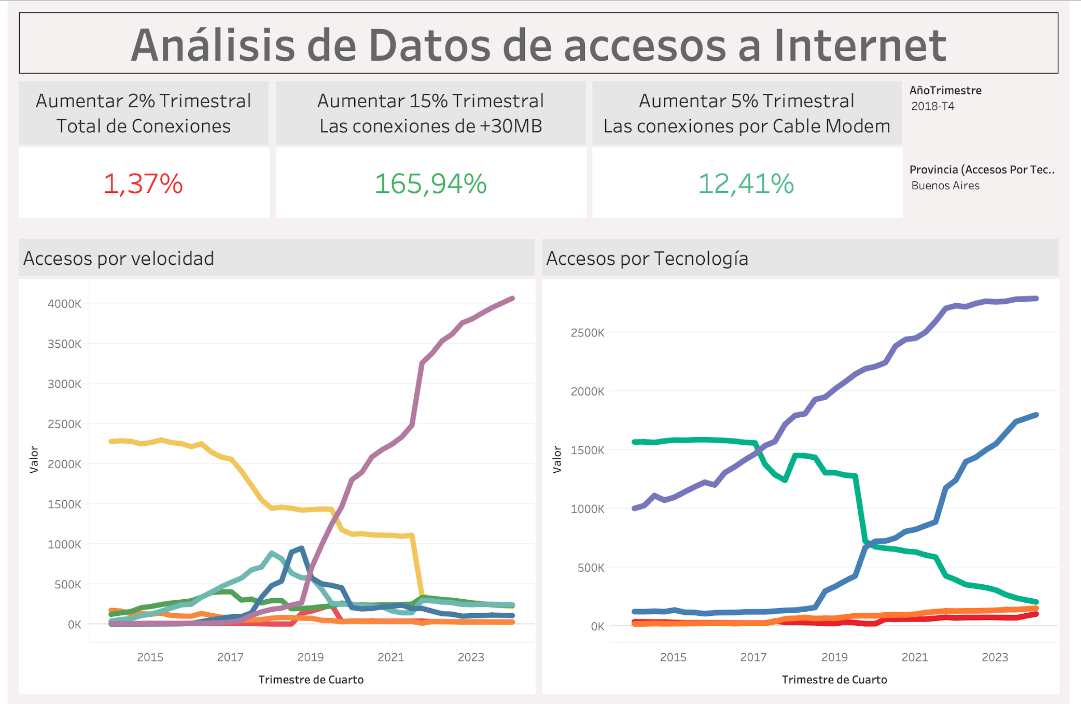

The page's visual inventory and layout, read from the dashboard file:
{"tool":"tableau","page":{"name":"Evolucion","canvas":[1000,1000],"units":"permille","ordinal":0},"visuals":[{"type":"text","box":[6.4,10.6,987.1,98]},{"type":"worksheet","title":"KPIAum2","mark":"Automatic","box":[6.4,108.6,221.7,223.7]},{"type":"worksheet","title":"KPI30MB","mark":"Automatic","box":[228.1,108.6,315.2,223.7]},{"type":"worksheet","title":"KPICM","mark":"Automatic","box":[543.4,108.6,315.3,223.7]},{"type":"filter","title":"KPIAum2","param":"[federated.19r4h710yd1vlb11macoq06q9sdq].[none:Calculation_6931602843513204736:n","box":[858.6,108.6,134.9,75.5]},{"type":"filter","title":"KPIAum2","param":"[federated.19r4h710yd1vlb11macoq06q9sdq].[none:Provincia (Accesos Por Tecnología","box":[858.6,184.1,134.9,74.2]},{"type":"dashboard-object","box":[858.6,258.3,134.9,74.2]},{"type":"worksheet","title":"xVelocidad","mark":"Automatic","cols":["Calculation_142637492410564608"],"box":[6.4,332.3,493.5,657.1]},{"type":"worksheet","title":"xTecnologia","mark":"Automatic","cols":["Calculation_142637492410564608"],"box":[499.9,332.3,493.7,657.1]}]}

Visuals, with their boxes on the dashboard's canvas, which has no fixed pixel size, in thousandths of its width and height (x1, y1, x2, y2). These are canvas units, not pixel positions in the 1081x704 screenshot, which may show the page scaled, cropped or inside an application window:
text: [6, 11, 994, 109]
"KPIAum2" worksheet: [6, 109, 228, 332]
"KPI30MB" worksheet: [228, 109, 543, 332]
"KPICM" worksheet: [543, 109, 859, 332]
"KPIAum2" filter: [859, 109, 994, 184]
"KPIAum2" filter: [859, 184, 994, 258]
dashboard-object: [859, 258, 994, 332]
"xVelocidad" worksheet: [6, 332, 500, 989]
"xTecnologia" worksheet: [500, 332, 994, 989]
